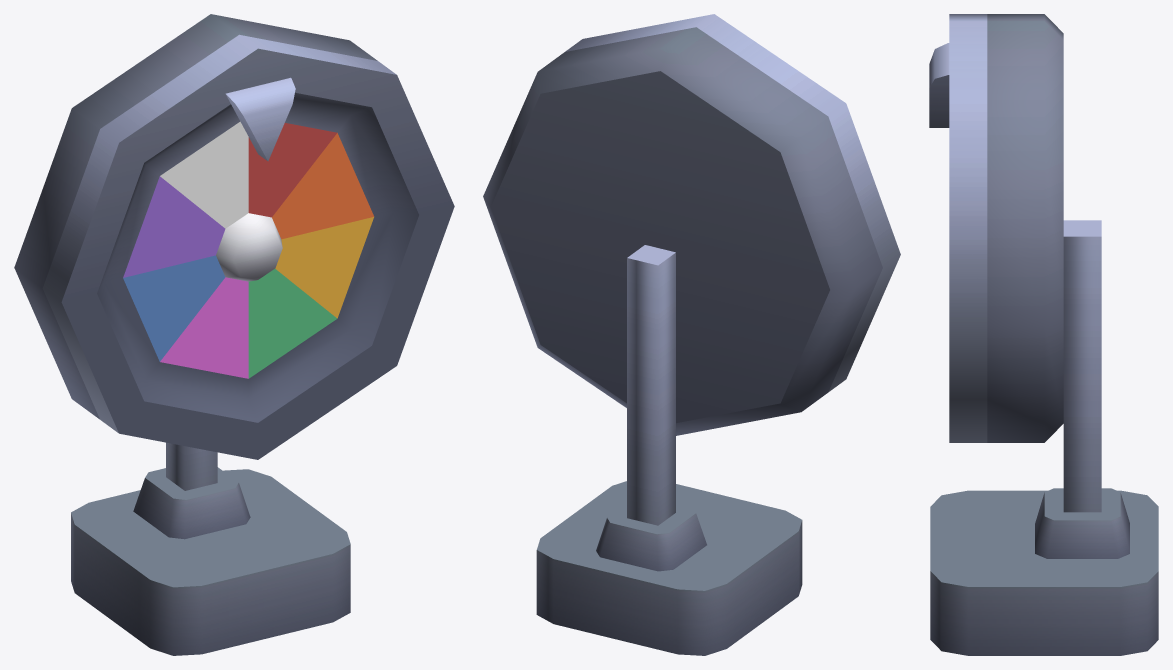
Rendered from arcade.prize_wheel.glb.
3 views of the same model, side by side, from view 1: azimuth 30°, elevation 25°; view 2: azimuth 150°, elevation 25°; view 3: azimuth 270°, elevation 25° (orthographic). The views are drawn at different scales.
Visible parts, largest first — view 1: rotate-z, prize-wheel; view 2: rotate-z, prize-wheel; view 3: prize-wheel, rotate-z.
Part boxes in pixels (left/top/right/bottom): rotate-z: left=14, top=14, right=454, bottom=459; prize-wheel: left=71, top=77, right=350, bottom=655; rotate-z: left=483, top=14, right=900, bottom=435; prize-wheel: left=536, top=245, right=802, bottom=655; prize-wheel: left=929, top=43, right=1158, bottom=655; rotate-z: left=949, top=14, right=1063, bottom=442.
Bounding box in the file's own units: 1.49 × 2.11 × 0.7486.
Materials: 1 (1 with a texture image).
